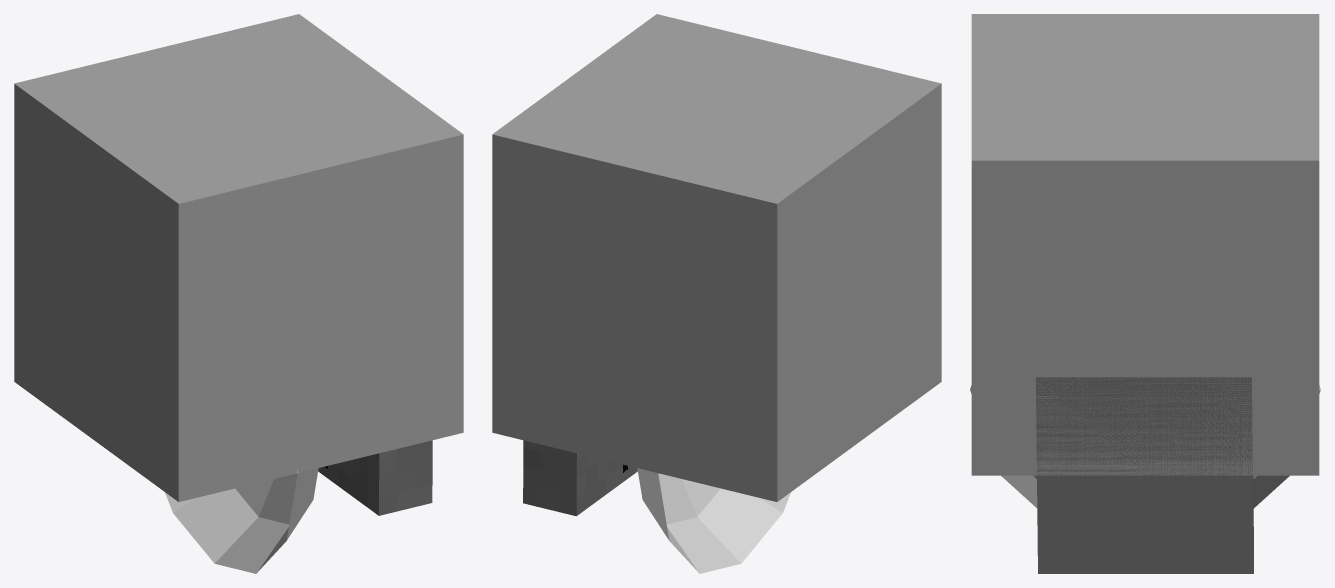
The model's file is lowpowerreceiverantenna.obj.
3 renders of one model, left to right at view 1: azimuth 30°, elevation 25°; view 2: azimuth 150°, elevation 25°; view 3: azimuth 270°, elevation 25°, orthographic. The views are drawn at different scales.
Parts seen in each view (by area): view 1: Minecraft_Block_Cube, Minecraft_2_Edge_Connectivity_Cube.002, main; view 2: Minecraft_Block_Cube, Minecraft_2_Edge_Connectivity_Cube.002, main; view 3: Minecraft_Block_Cube, main.
Boxes of the visible parts, x1,y1,x2,y2 form: Minecraft_Block_Cube: (14, 14, 463, 501); Minecraft_2_Edge_Connectivity_Cube.002: (179, 318, 463, 501); main: (165, 440, 432, 573); Minecraft_Block_Cube: (492, 14, 941, 501); Minecraft_2_Edge_Connectivity_Cube.002: (492, 318, 776, 501); main: (523, 440, 790, 573); Minecraft_Block_Cube: (971, 14, 1319, 475); main: (970, 377, 1320, 573).
Size of the model in its own units: 1 by 1.5 by 1.01.
2 materials, 1 textured.
